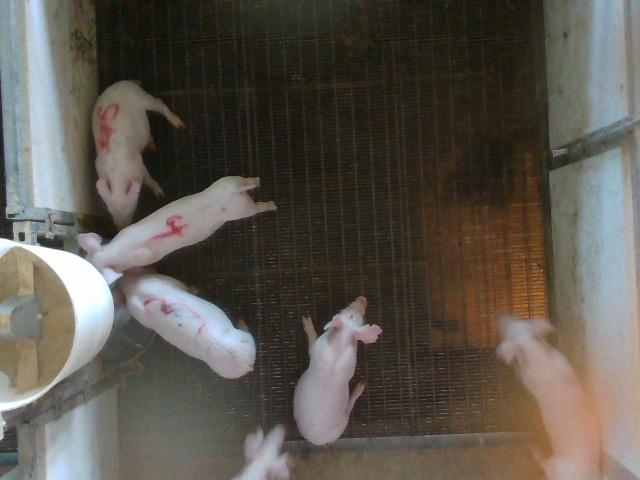pig-3: (120, 268, 256, 378)
pig-4: (80, 176, 276, 283)
pig-5: (92, 81, 184, 229)
